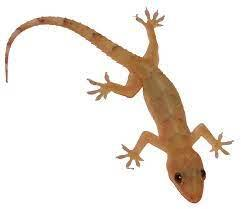lizard: (5, 5, 235, 203)
